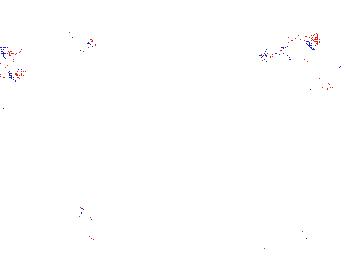red belly glassfish: (68, 29, 97, 55)
redtail glassfish: (256, 33, 323, 64), (297, 65, 346, 94)
siberian prawn: (24, 211, 105, 240)
